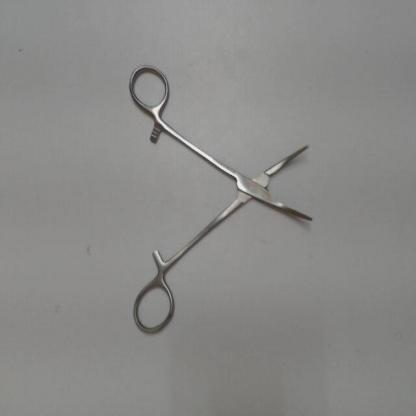Crile Artery Forceps: (126, 58, 324, 339)
